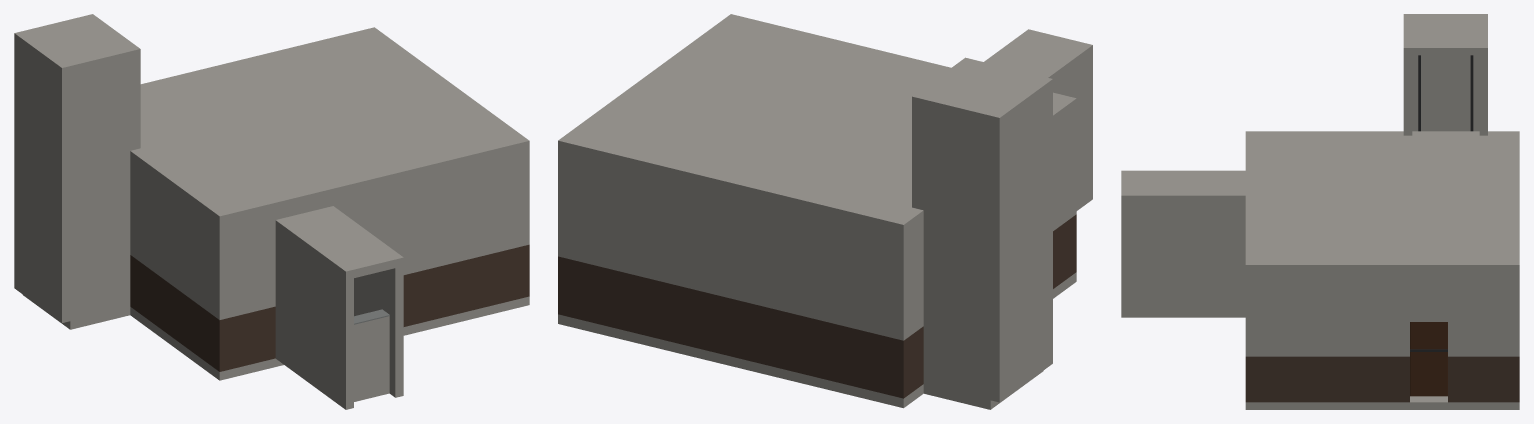
Rendered from room_pump.glb.
3 views of the same model, side by side, from view 1: azimuth 30°, elevation 25°; view 2: azimuth 150°, elevation 25°; view 3: azimuth 270°, elevation 25° (orthographic). The views are drawn at different scales.
Visible parts, largest first — view 1: ceiling, lift_frame, wall_s, stair_in, wall_w, floor; view 2: wall_n, ceiling, lift_frame, stair_in, wall_w, floor, wall_s; view 3: ceiling, wall_e, stair_in, lift_frame, IA_door_cell, floor, wall_s, wall_n.
Part boxes in pixels (x1,y1,x2,y2): ceiling: [130, 27, 529, 224]; lift_frame: [14, 14, 140, 329]; wall_s: [213, 149, 529, 371]; stair_in: [275, 206, 403, 409]; wall_w: [130, 160, 213, 367]; floor: [130, 296, 529, 380]; wall_n: [558, 150, 910, 398]; ceiling: [558, 14, 1076, 234]; lift_frame: [912, 57, 1052, 409]; stair_in: [984, 29, 1092, 210]; wall_w: [910, 113, 1069, 393]; floor: [558, 272, 1076, 408]; wall_s: [1070, 108, 1076, 276]; ceiling: [1245, 131, 1519, 272]; wall_e: [1256, 272, 1508, 402]; stair_in: [1121, 170, 1245, 317]; lift_frame: [1403, 14, 1487, 135]; IA_door_cell: [1410, 322, 1447, 396]; floor: [1245, 396, 1519, 409]; wall_s: [1245, 272, 1256, 402]; wall_n: [1509, 272, 1519, 402].
Bounding box in the file's own units: 9.15 × 6.1 × 9.45.
